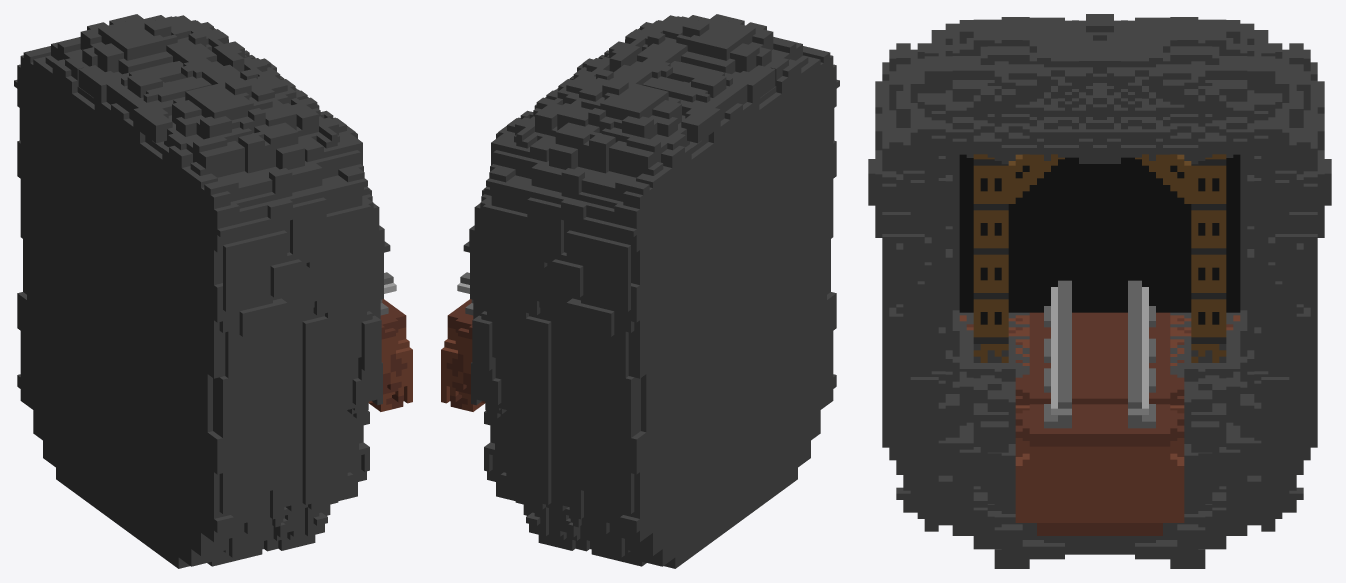
File: minecart passthrough.obj
3 renders of one model, left to right at view 1: azimuth 30°, elevation 25°; view 2: azimuth 150°, elevation 25°; view 3: azimuth 270°, elevation 25°, orthographic. The views are drawn at different scales.
Bounding box in the file's own units: 4.6 × 8 × 6.6.
Materials: 1 (1 with a texture image).
